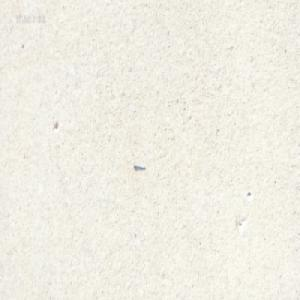Nail: (132, 162, 145, 169)
